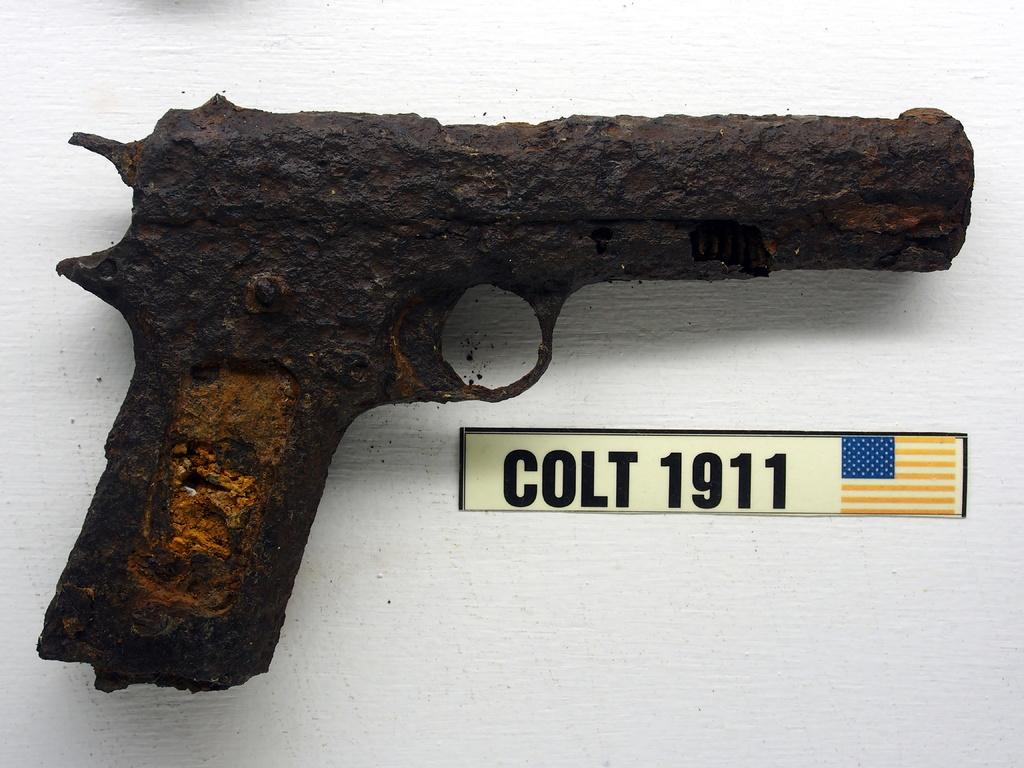Handgun: (31, 90, 977, 699)
